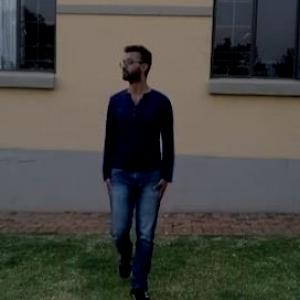follow: (90, 32, 180, 299)
